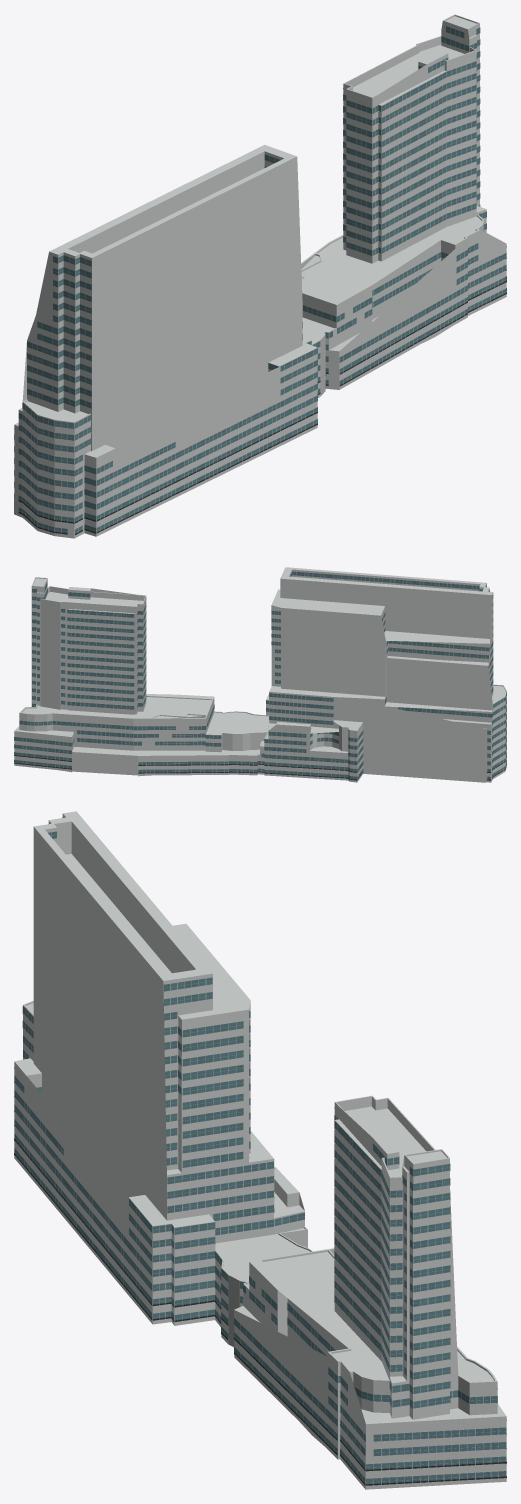
File: mark-city.glb
The picture shows the model from 3 angles, top to bottom: view 1: azimuth 30°, elevation 25°; view 2: azimuth 150°, elevation 25°; view 3: azimuth 270°, elevation 25°; orthographic projection. The views are drawn at different scales.
Visible parts, largest first — view 1: mark-city_wall, mark-city_roof, mark-city_glass0, mark-city_glass1, mark-city_glass2, mark-city_spandrel, mark-city_frame, mark-city_sign_housing; view 2: mark-city_wall, mark-city_roof, mark-city_glass1, mark-city_glass2, mark-city_glass0, mark-city_spandrel, mark-city_frame, mark-city_sign_housing; view 3: mark-city_wall, mark-city_roof, mark-city_glass1, mark-city_glass2, mark-city_glass0, mark-city_spandrel, mark-city_frame, mark-city_sign_housing.
Part boxes in pixels (x1,y1,x2,y2): mark-city_wall: (14,15,506,538); mark-city_roof: (14,14,500,457); mark-city_glass0: (14,27,506,533); mark-city_glass1: (14,26,502,531); mark-city_glass2: (14,29,506,534); mark-city_spandrel: (14,33,506,536); mark-city_frame: (19,27,506,535); mark-city_sign_housing: (18,281,506,534); mark-city_wall: (14,569,506,782); mark-city_roof: (14,567,506,755); mark-city_glass1: (14,572,506,780); mark-city_glass2: (14,571,506,778); mark-city_glass0: (14,572,506,779); mark-city_spandrel: (14,575,506,781); mark-city_frame: (17,573,504,779); mark-city_sign_housing: (14,755,506,780); mark-city_wall: (14,813,506,1489); mark-city_roof: (14,811,505,1424); mark-city_glass1: (14,831,506,1483); mark-city_glass2: (14,817,506,1484); mark-city_glass0: (14,979,506,1485); mark-city_spandrel: (14,838,506,1486); mark-city_frame: (14,817,505,1484); mark-city_sign_housing: (14,1139,506,1485).
Bounding box in the file's own units: 256 × 113 × 151.
